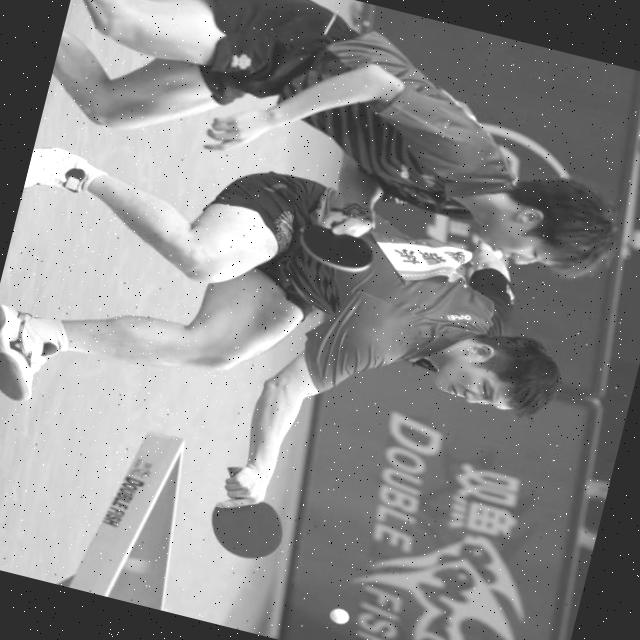ping-pong-ball: (324, 600, 354, 628)
